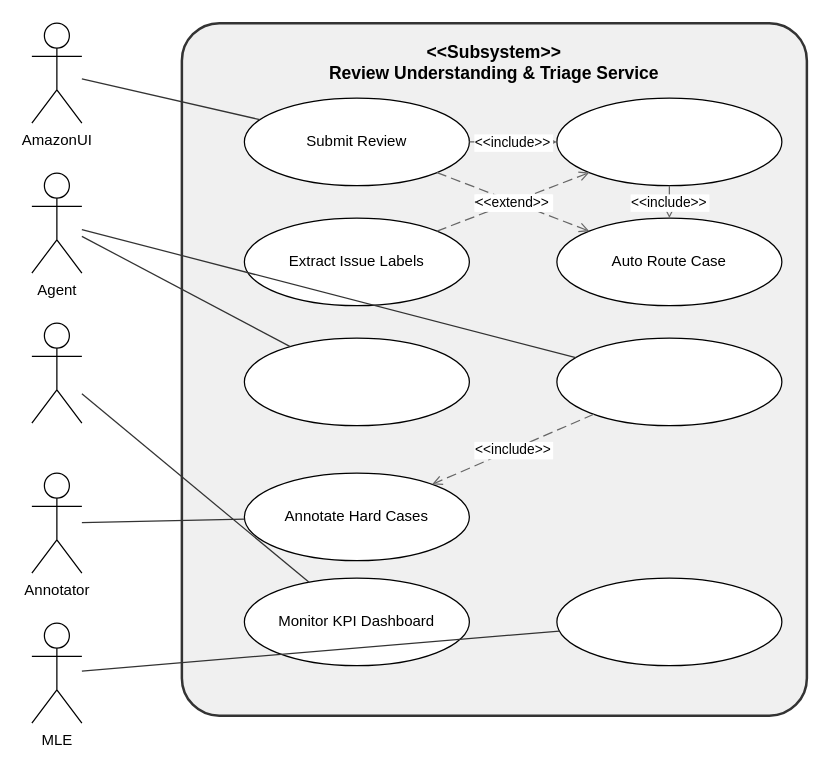
This 829x770 diagram has some shape labels left out. Here are the shapes that lost their labels. From the top down, the centre of each, then its label:
At point 669,141: "Process Review".
At point 56,372: "Ops".
At point 356,381: "View Triage Result".
At point 669,381: "Manual Review & Override".
At point 669,621: "Retrain & Deploy Model".
